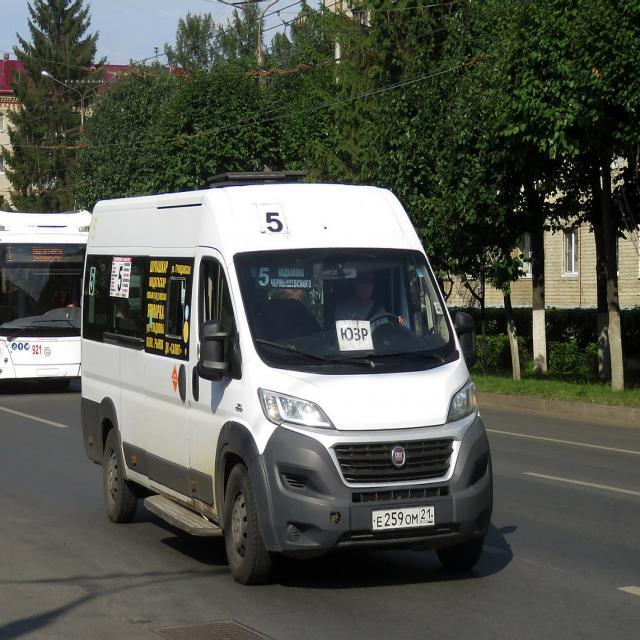number-of-bus: (261, 203, 291, 238), (255, 258, 274, 292), (87, 266, 100, 297)
